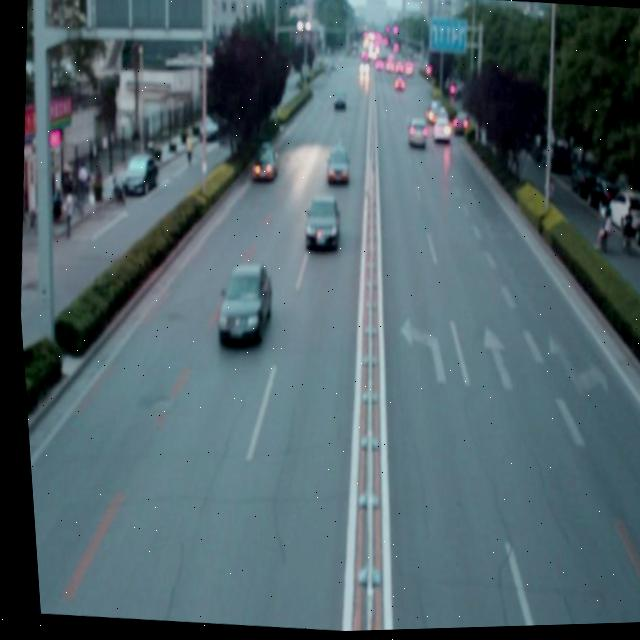car: (209, 260, 272, 343), (297, 193, 339, 254), (319, 146, 350, 190), (247, 143, 278, 186)
